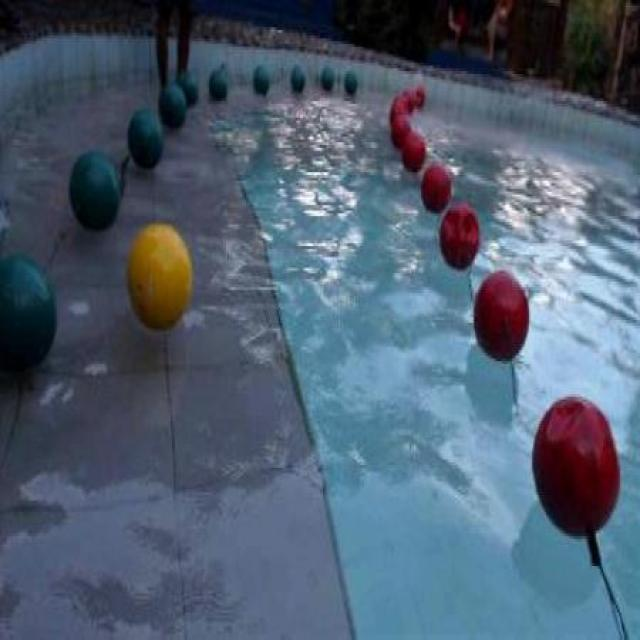buoy: (532, 394, 620, 536), (126, 221, 190, 331), (0, 255, 58, 374), (472, 268, 528, 362), (66, 147, 119, 230), (438, 200, 479, 271), (126, 106, 163, 167), (420, 160, 450, 213), (156, 82, 186, 126), (401, 128, 427, 168), (176, 70, 197, 105), (390, 111, 410, 146), (207, 66, 227, 98), (253, 62, 268, 92), (289, 66, 305, 93), (342, 70, 356, 94), (322, 65, 334, 89)
